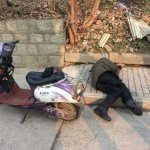falling: (82, 50, 148, 120)
